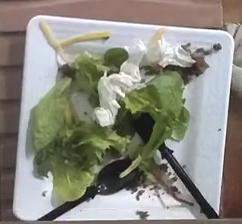lettuce: (30, 49, 128, 201), (120, 72, 189, 177)
